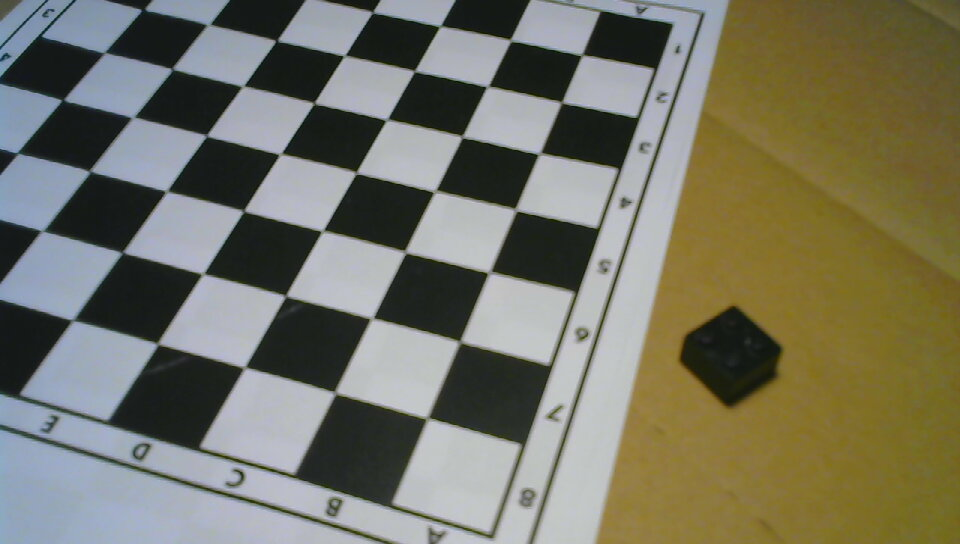bp: (679, 304, 783, 405)
